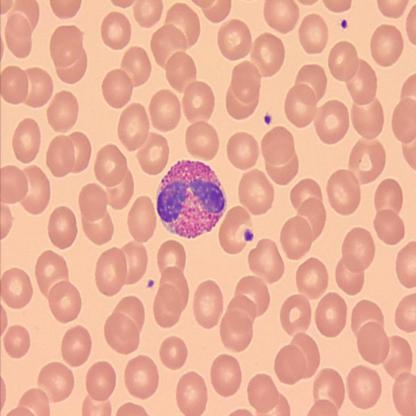Eosinophil: (155, 158, 226, 237)
